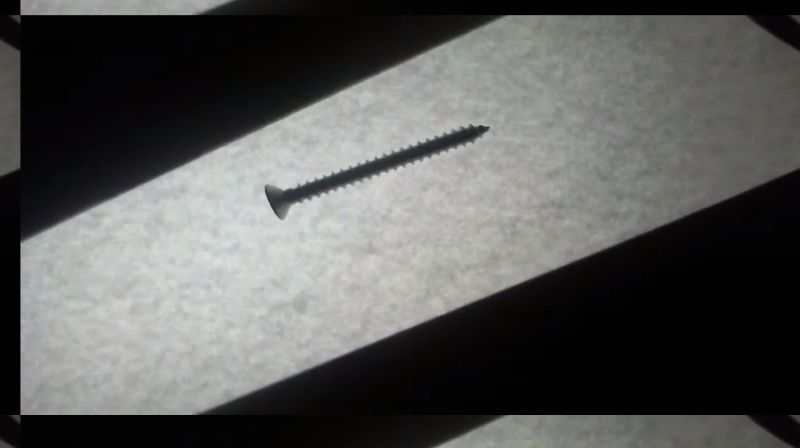S002: (258, 120, 494, 223)
